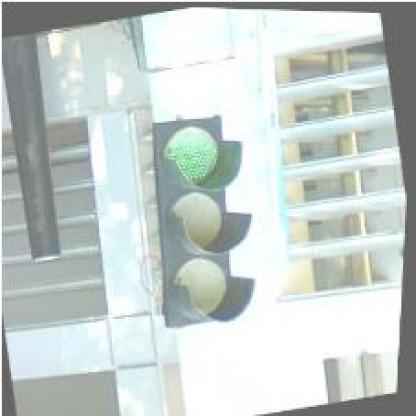green: (128, 106, 275, 330)
